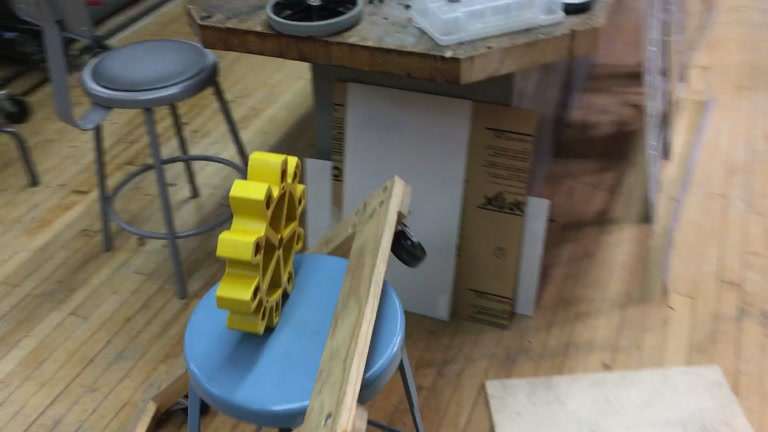gear: (217, 152, 305, 336)
